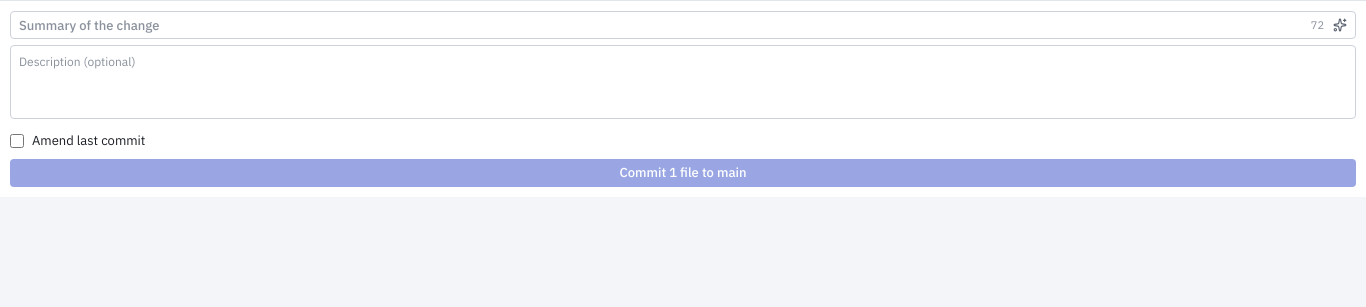
it: CommitComposer › shows the backend's explanation when a commit fails
The image size is (1366, 307).
Type "Try" into the field named "Commit summary" at [683, 25], box [10,11,1356,39]
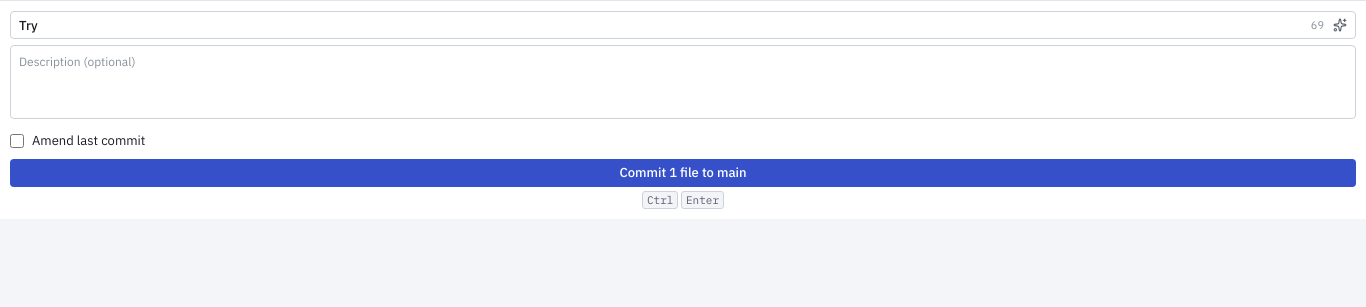
Click the button "Commit 1 file to main" at [683, 173], box [10,159,1356,187]
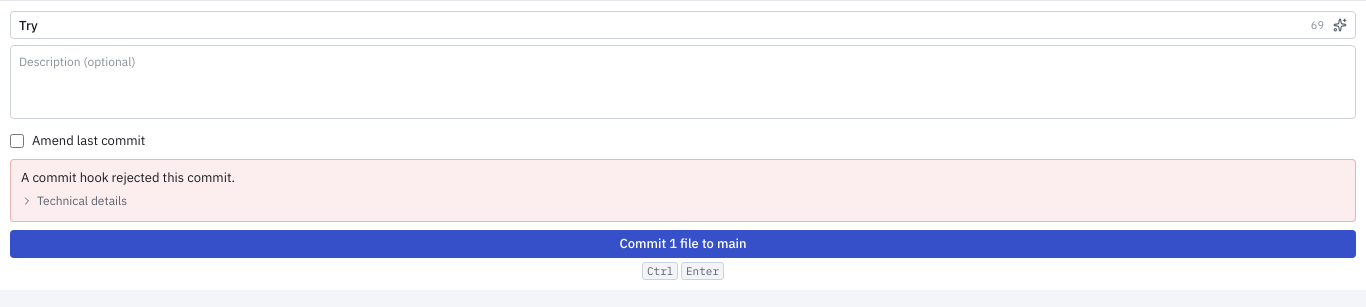
Expected: the text "A commit hook rejected this commit." is shown, [21,169,235,186]
